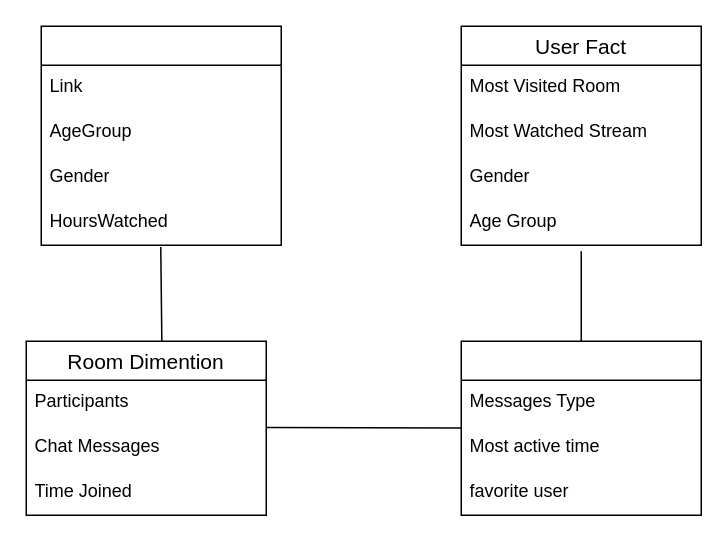
The diagram is 728 pixels wide and 546 high, and some of its shapes have lost their labels. The box of each missing label's shape, as (x1, y1, x2, y2) in pixels:
Chat Dimention: (460, 340, 701, 515)
Stream Fact: (40, 25, 281, 245)
